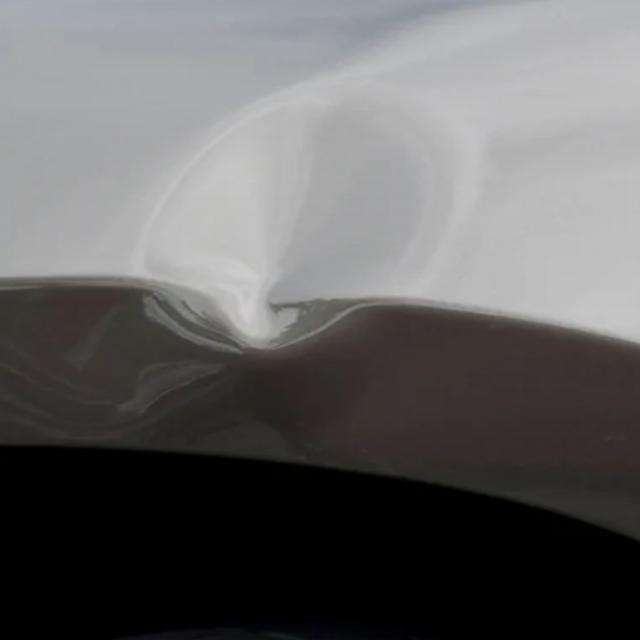dents: (145, 80, 472, 377)
